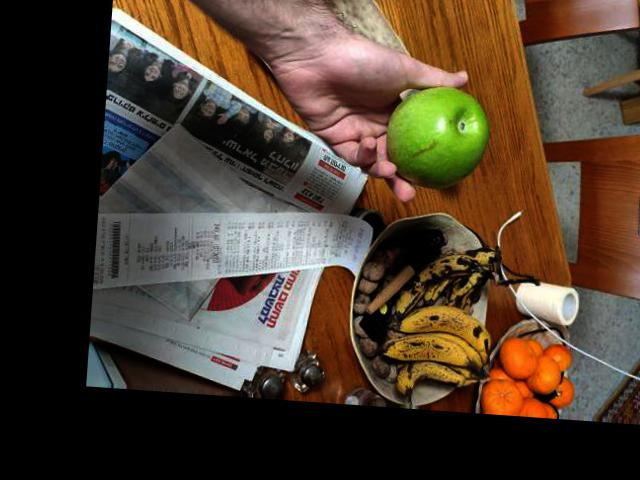apple: (378, 80, 502, 195)
